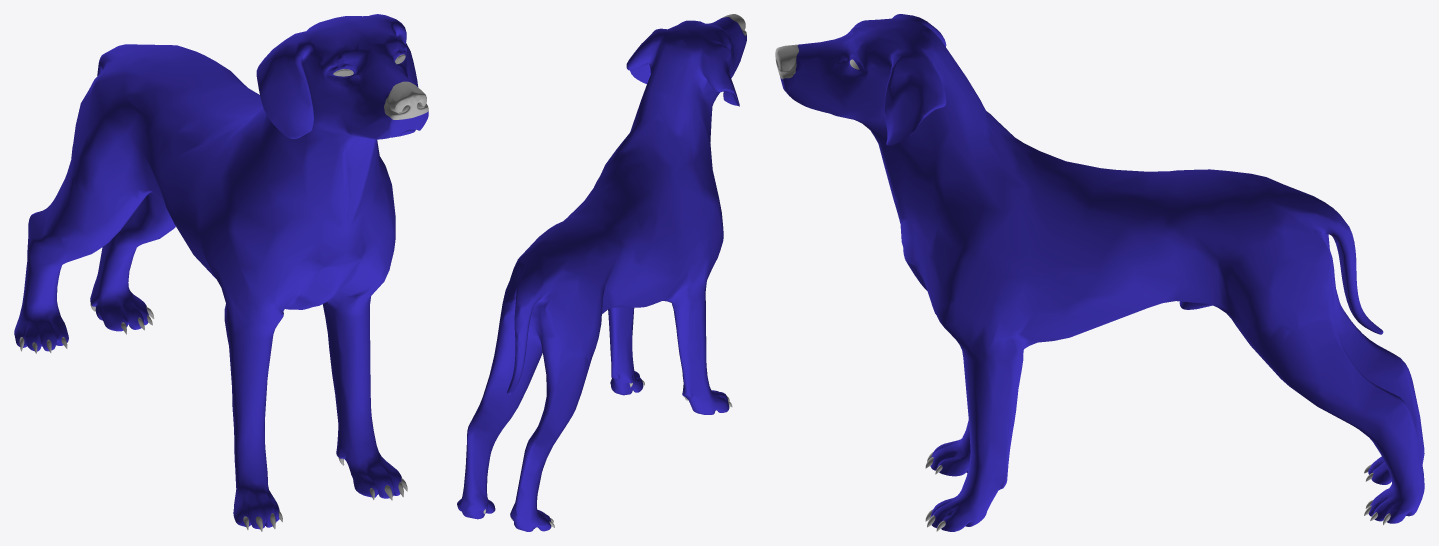
Rendered from Anjing.dae.
3 views of the same model, side by side, from view 1: azimuth 30°, elevation 25°; view 2: azimuth 150°, elevation 25°; view 3: azimuth 270°, elevation 25° (orthographic). The views are drawn at different scales.
Visible parts, largest first — view 1: Dog_0_ncl1_7, Dog_0_ncl1_2, Dog_0_ncl1_6, Dog_0_ncl1_5, Dog_0, Dog_0_ncl1_4, Dog_0_ncl1_1, Paws_1; view 2: Dog_0_ncl1_7, Dog_0_ncl1_2, Dog_0_ncl1_4, Dog_0_ncl1_6, Dog_0, Dog_0_ncl1_5; view 3: Dog_0_ncl1_2, Dog_0_ncl1_4, Dog_0_ncl1_5, Dog_0_ncl1_7, Dog_0_ncl1_6, Dog_0.
Boxes of the visible parts, left/top/right/bottom form: Dog_0_ncl1_7: left=71, top=17, right=411, bottom=340; Dog_0_ncl1_2: left=133, top=14, right=428, bottom=317; Dog_0_ncl1_6: left=14, top=150, right=145, bottom=351; Dog_0_ncl1_5: left=322, top=302, right=403, bottom=498; Dog_0: left=224, top=318, right=279, bottom=529; Dog_0_ncl1_4: left=90, top=192, right=175, bottom=331; Dog_0_ncl1_1: left=384, top=81, right=428, bottom=119; Paws_1: left=19, top=304, right=407, bottom=531; Dog_0_ncl1_7: left=508, top=17, right=746, bottom=394; Dog_0_ncl1_2: left=497, top=17, right=727, bottom=394; Dog_0_ncl1_4: left=457, top=338, right=542, bottom=519; Dog_0_ncl1_6: left=510, top=350, right=594, bottom=531; Dog_0: left=671, top=295, right=729, bottom=414; Dog_0_ncl1_5: left=608, top=307, right=643, bottom=395; Dog_0_ncl1_2: left=780, top=27, right=1383, bottom=365; Dog_0_ncl1_4: left=1232, top=309, right=1424, bottom=523; Dog_0_ncl1_5: left=930, top=355, right=1023, bottom=531; Dog_0_ncl1_7: left=798, top=14, right=1382, bottom=330; Dog_0_ncl1_6: left=1331, top=275, right=1424, bottom=484; Dog_0: left=930, top=420, right=970, bottom=476.
Bounding box in the file's own units: 1368 × 3981 × 4992.
